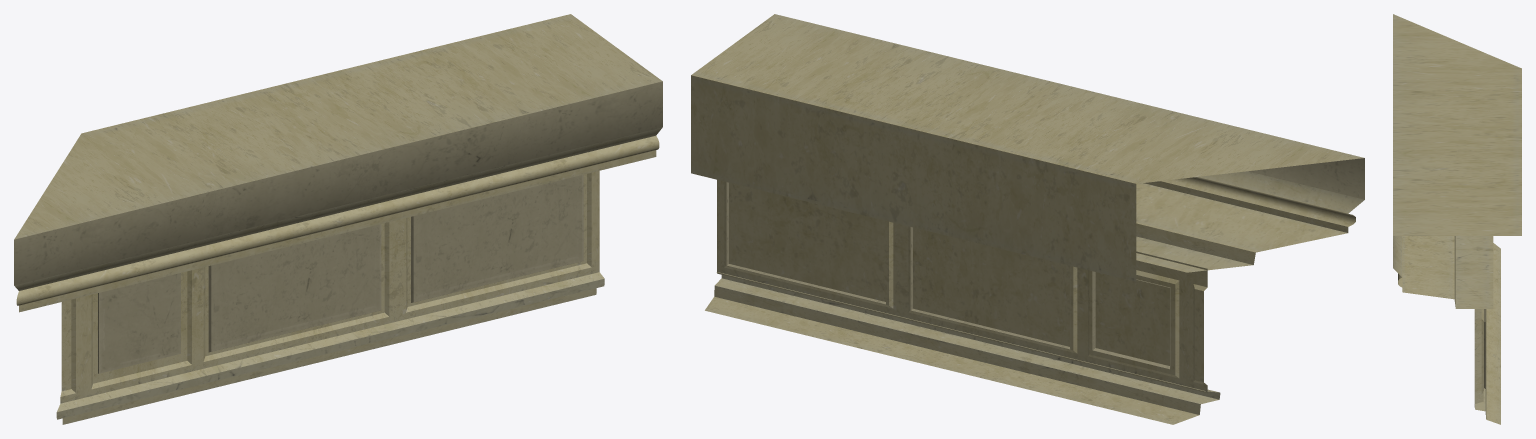
File: Cornice_Marble_L.gltf
3 views of the same model, side by side, from view 1: azimuth 30°, elevation 25°; view 2: azimuth 150°, elevation 25°; view 3: azimuth 270°, elevation 25° (orthographic). The views are drawn at different scales.
Parts seen in each view (by area): view 1: Cornice_Marble_L; view 2: Cornice_Marble_L; view 3: Cornice_Marble_L.
Boxes of the visible parts, box(x1,y1,x2,y2) form: Cornice_Marble_L: box(14, 14, 662, 424); Cornice_Marble_L: box(691, 14, 1364, 424); Cornice_Marble_L: box(1393, 14, 1521, 424).
Size of the model in its own units: 2.52 by 1 by 0.6185.
2 materials, 2 textured.
